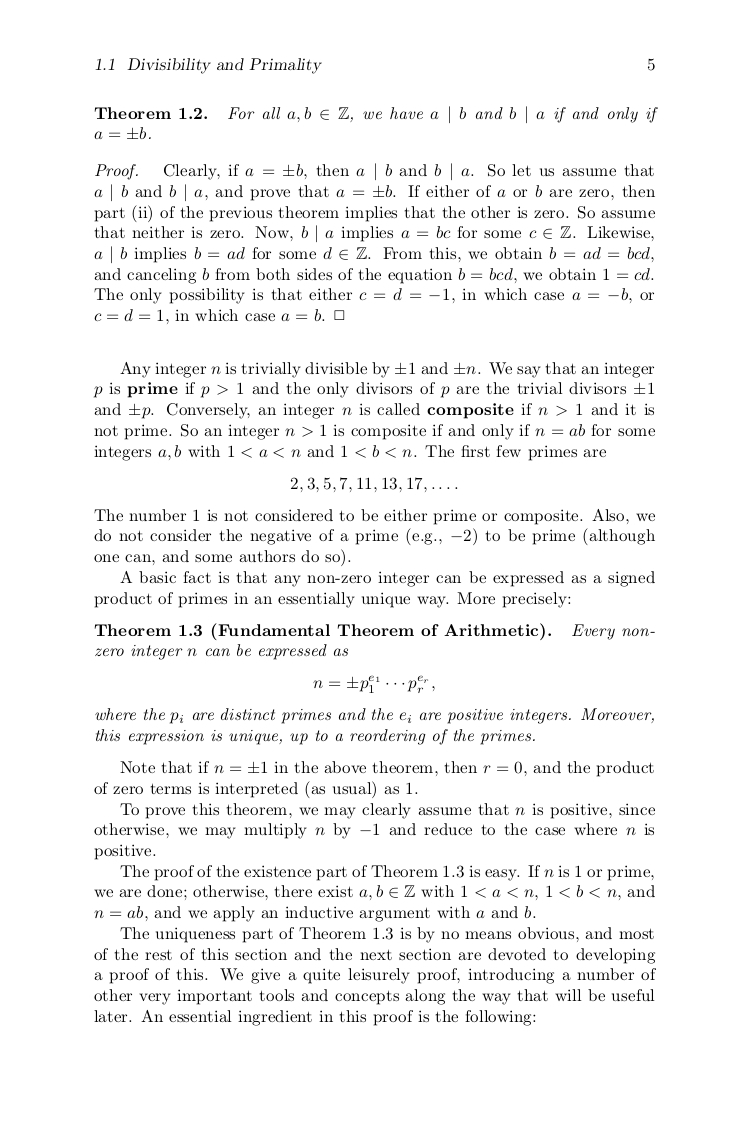formula: (290, 476, 457, 492), (313, 674, 434, 693)
